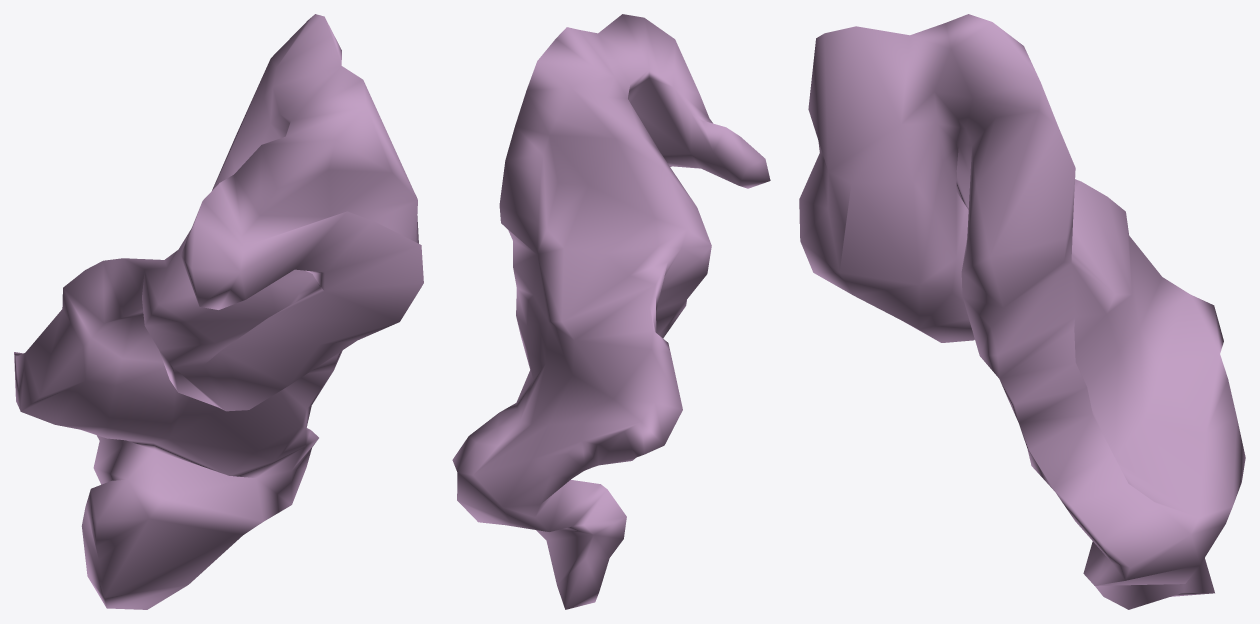
3 renders of one model, left to right at view 1: azimuth 30°, elevation 25°; view 2: azimuth 150°, elevation 25°; view 3: azimuth 270°, elevation 25°, orthographic. The views are drawn at different scales.
Visible parts, largest first — view 1: 左侧颞平面; view 2: 左侧颞平面; view 3: 左侧颞平面.
Boxes of the visible parts, x1,y1,x2,y2 form: 左侧颞平面: (14, 14, 423, 609); 左侧颞平面: (452, 14, 770, 609); 左侧颞平面: (799, 14, 1245, 609).
Size of the model in its own units: 0.0303 by 0.0646 by 0.0403.
